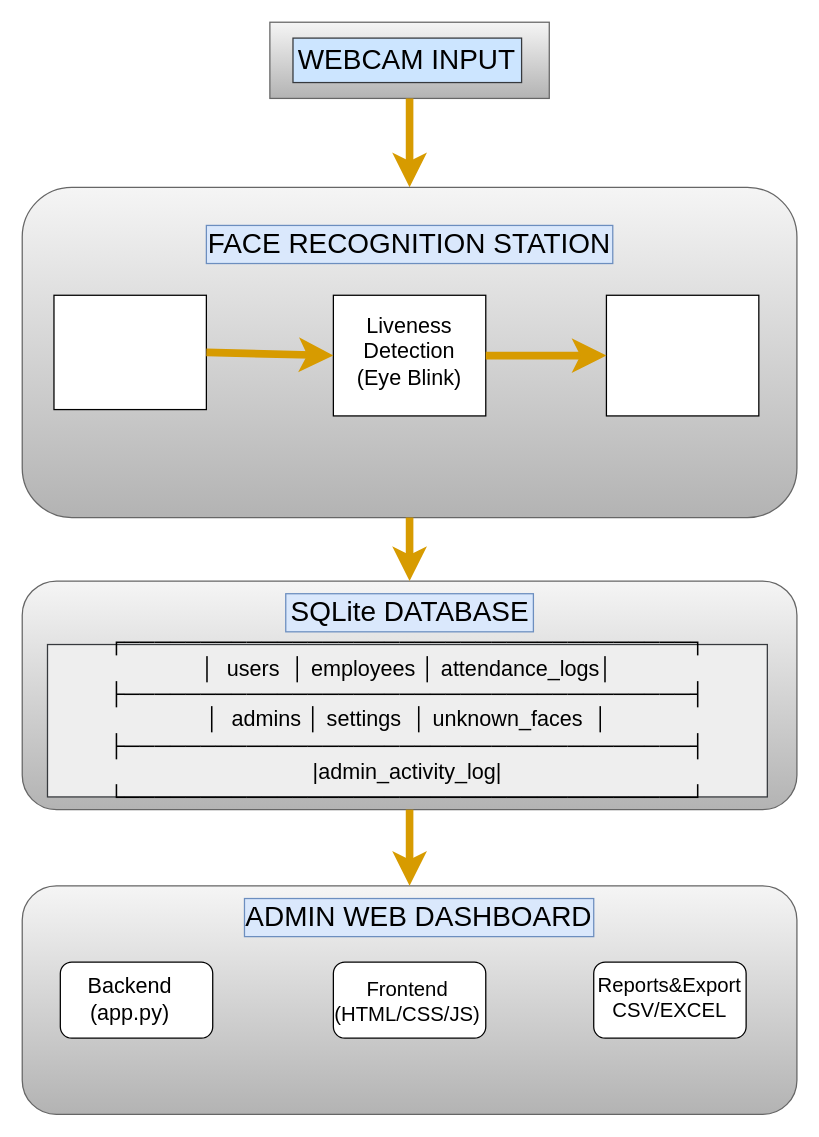
Some shapes in this 819 by 1137 pixel diagram are drawn without their labels. Each missing label, with the box of its shape:
Attendance Processing (Check-in/out): (605, 294, 759, 416)
Face Detection (dblib/OpenCV): (53, 294, 206, 410)
